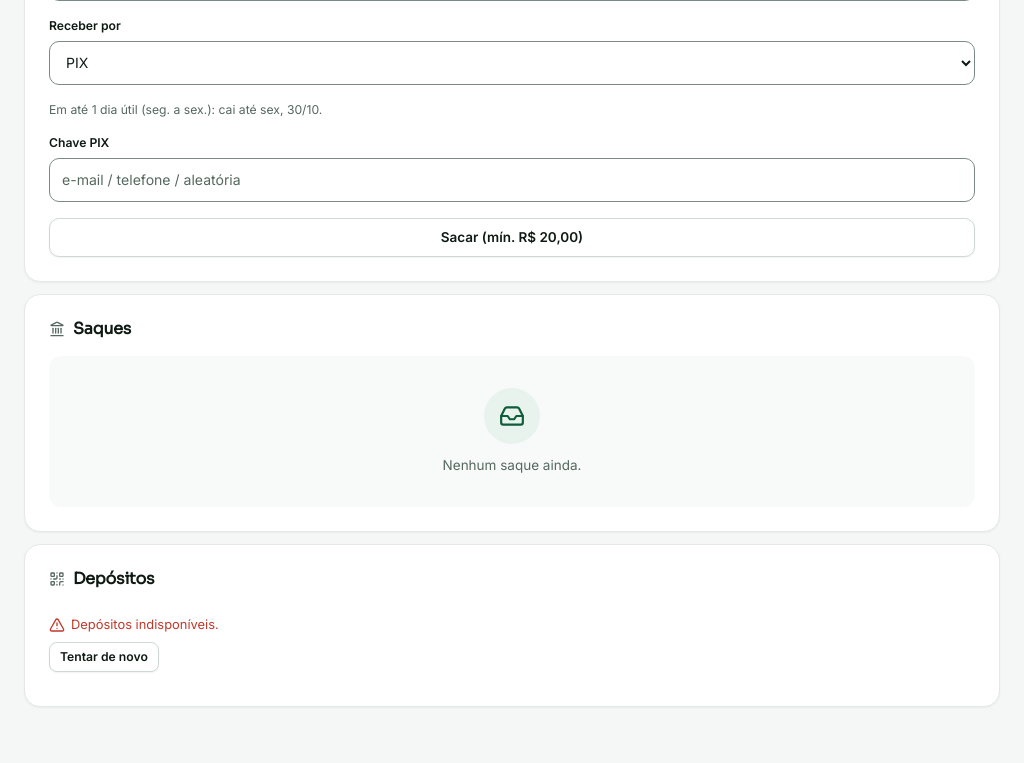
it: CarteiraView: saldos e estados › falha em Depósitos: o erro aparece só naquele cartão e "Tentar de novo" refaz só aquela busca
(page scrolled)
Check: the message shows "Depósitos indisponíveis.", box x1=71 y1=617 x2=219 y2=632
Check: the number of messages is 1, box x1=49 y1=617 x2=219 y2=672
Click the button "Tentar de novo" at point(104, 657), box x1=49 y1=642 x2=159 y2=672
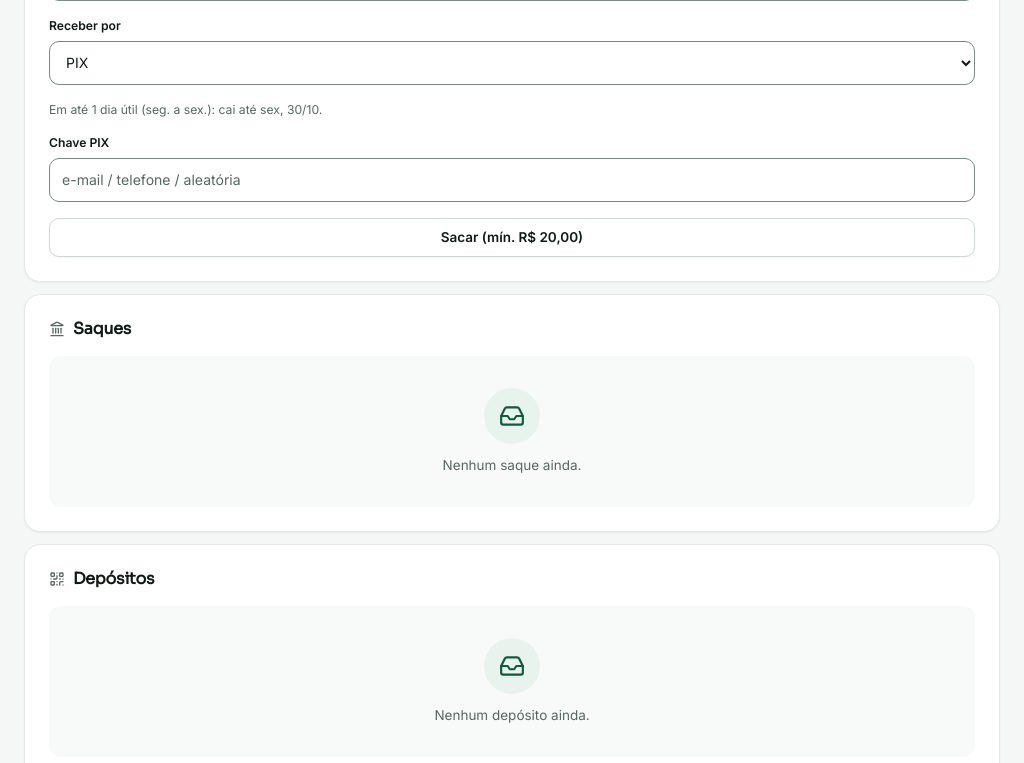
Check: the text "Nenhum depósito ainda." is shown, box x1=434 y1=706 x2=590 y2=725
